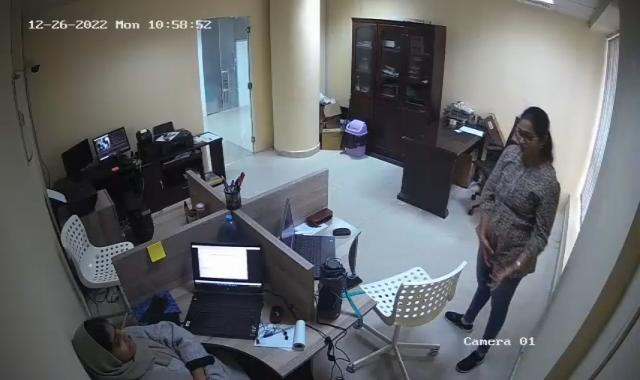no_hairnet: (73, 318, 138, 374), (514, 110, 545, 158)
